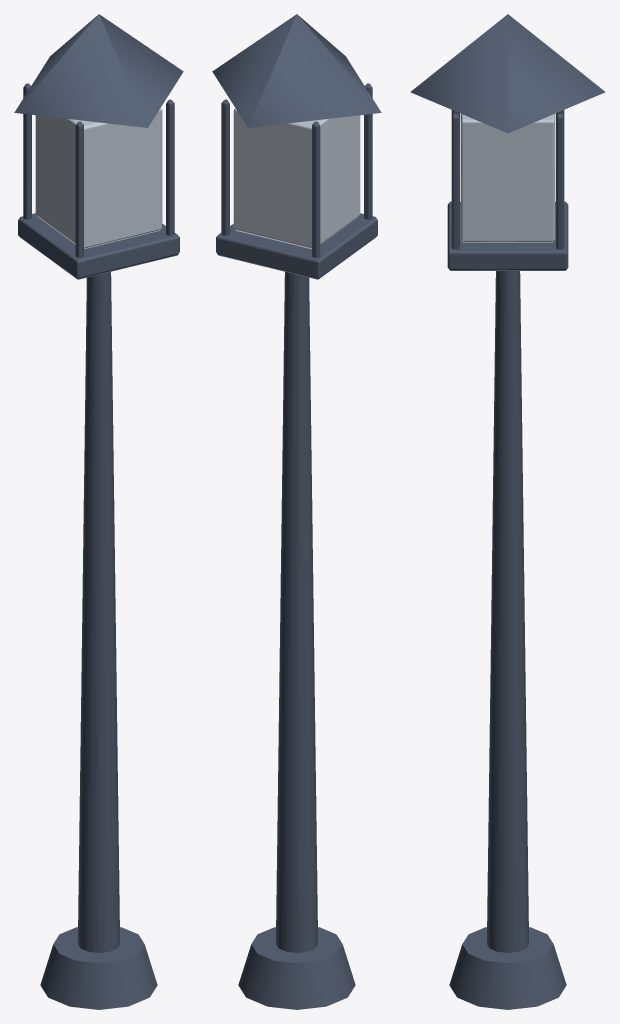
Rendered from 庭院灯柱-lite.glb.
The picture shows the model from 3 angles, left to right: view 1: azimuth 30°, elevation 25°; view 2: azimuth 150°, elevation 25°; view 3: azimuth 270°, elevation 25°; orthographic projection.
Visible parts, largest first — view 1: garden-lantern; view 2: garden-lantern; view 3: garden-lantern.
Part boxes in pixels (box(x1,y1,x2,y2)): garden-lantern: box(14, 14, 183, 1009); garden-lantern: box(212, 14, 381, 1009); garden-lantern: box(410, 14, 605, 1009).
Size of the model in its own units: 0.42 by 2.3 by 0.42.
